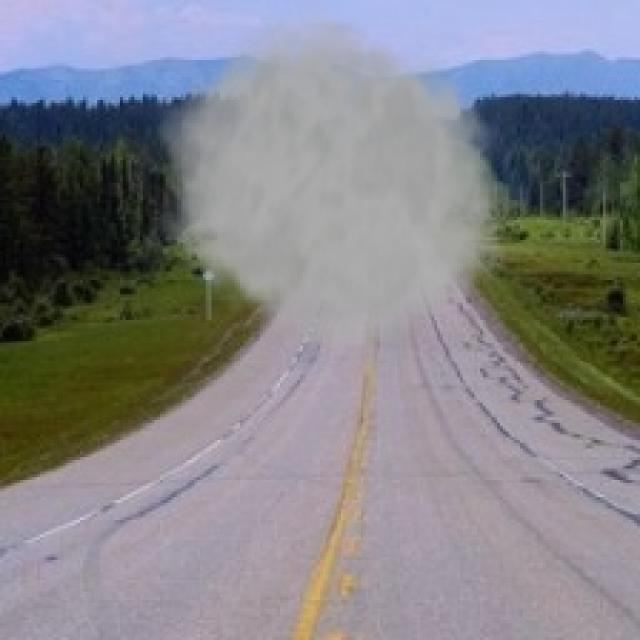smoke: (154, 0, 520, 366)
